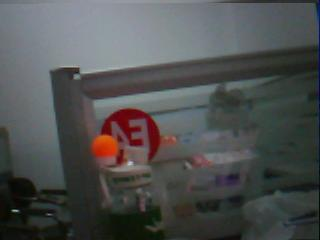oball: (92, 135, 118, 157)
